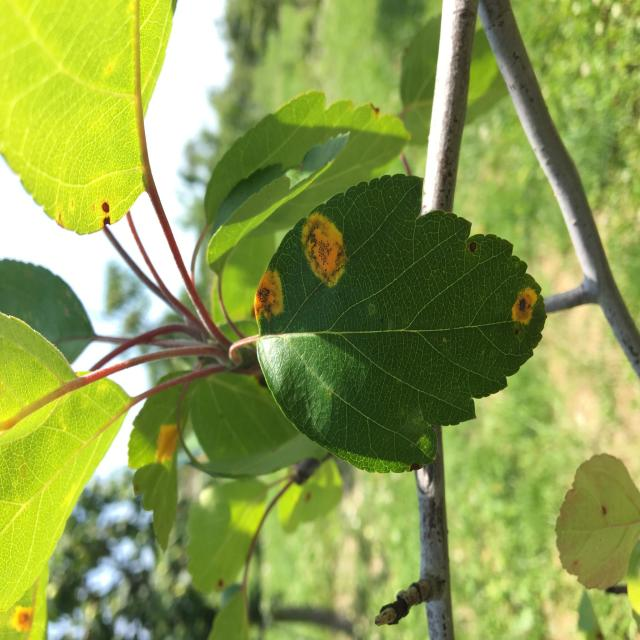Rust: (299, 192, 350, 300), (246, 252, 291, 329), (502, 261, 544, 330), (142, 420, 182, 469), (6, 588, 42, 640)
